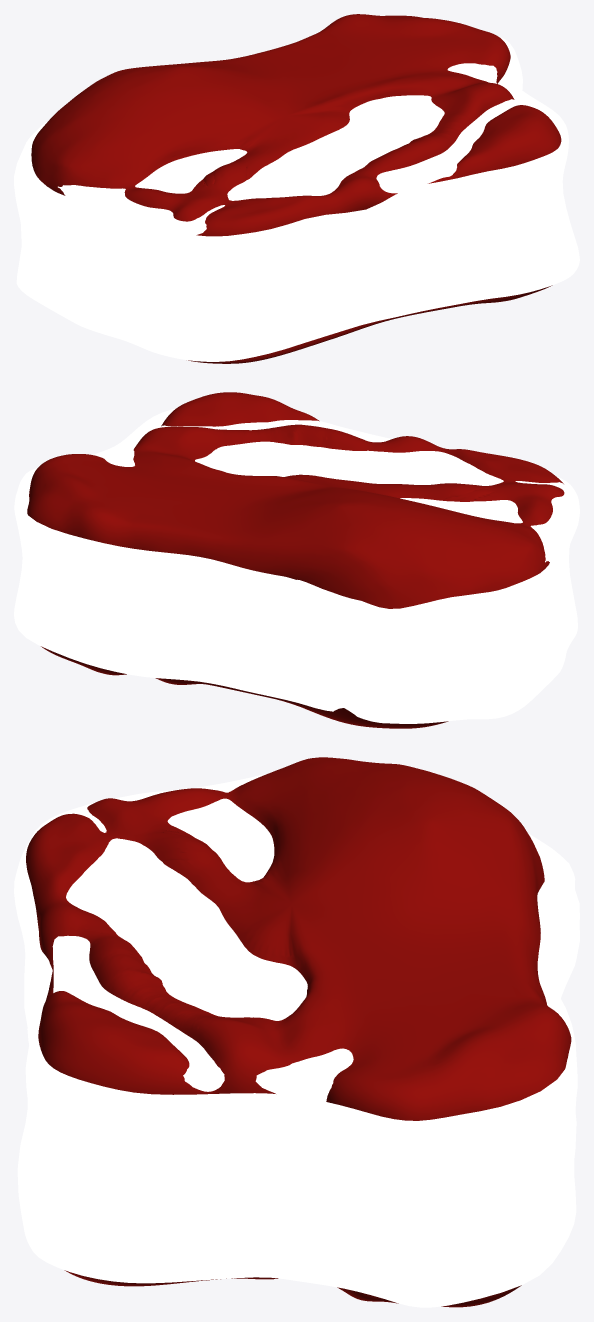
The model's file is kian-tsi-bah.glb.
3 renders of one model, top to bottom at view 1: azimuth 30°, elevation 25°; view 2: azimuth 150°, elevation 25°; view 3: azimuth 270°, elevation 25°, orthographic. The views are drawn at different scales.
Visible parts, largest first — view 1: object; view 2: object; view 3: object.
Part boxes in pixels (<box>): object: <box>14,14,579,363</box>; object: <box>14,392,579,728</box>; object: <box>14,757,579,1307</box>.
Size of the model in its own units: 1.06 by 0.3804 by 0.6997.
2 materials, 1 textured.
